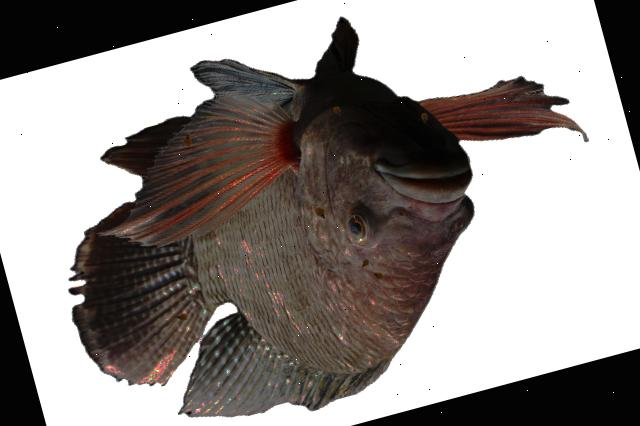Parasitic Disease: (70, 17, 579, 415), (70, 17, 579, 414)
